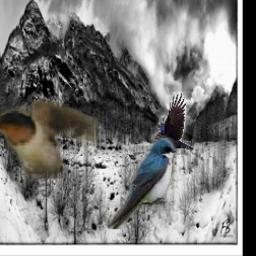Crow: (152, 91, 194, 150)
Swallow: (0, 99, 100, 180), (108, 139, 177, 230)
